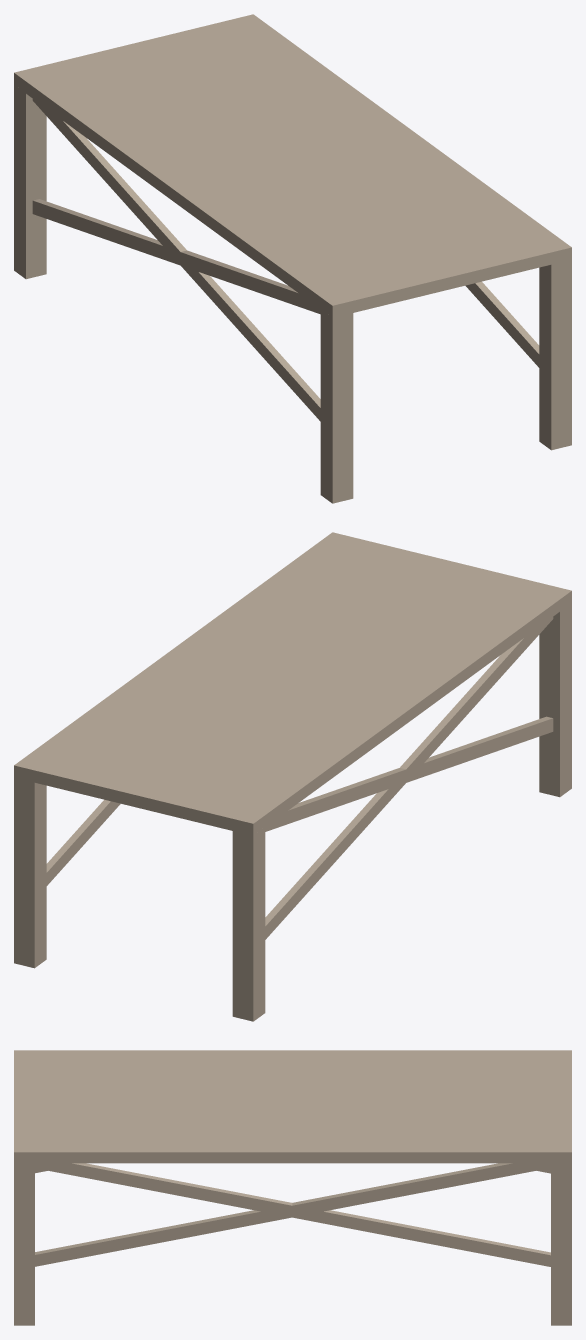
Rendered from GrandeTable_19.fbx.
3 renders of one model, top to bottom at view 1: azimuth 30°, elevation 25°; view 2: azimuth 150°, elevation 25°; view 3: azimuth 270°, elevation 25°, orthographic. The views are drawn at different scales.
Visible parts, largest first — view 1: pCube64, pCube66, pCube65, pCube73, pCube67, pCube74, pCube72; view 2: pCube64, pCube67, pCube68, pCube74, pCube66, pCube73, pCube69; view 3: pCube64, pCube69, pCube72, pCube68, pCube65.
Part boxes in pixels (x1=…): pCube64: x1=14, y1=14, x2=571, y2=317; pCube66: x1=320, y1=309, x2=353, y2=503; pCube65: x1=539, y1=259, x2=571, y2=450; pCube73: x1=32, y1=99, x2=320, y2=421; pCube67: x1=14, y1=84, x2=46, y2=279; pCube74: x1=32, y1=199, x2=320, y2=314; pCube72: x1=465, y1=281, x2=539, y2=367; pCube64: x1=14, y1=532, x2=571, y2=835; pCube67: x1=232, y1=827, x2=265, y2=1021; pCube68: x1=14, y1=777, x2=46, y2=968; pCube74: x1=265, y1=617, x2=553, y2=939; pCube66: x1=539, y1=602, x2=571, y2=797; pCube73: x1=265, y1=716, x2=553, y2=831; pCube69: x1=46, y1=799, x2=120, y2=885; pCube64: x1=14, y1=1050, x2=571, y2=1163; pCube69: x1=35, y1=1163, x2=550, y2=1266; pCube72: x1=35, y1=1163, x2=550, y2=1266; pCube68: x1=551, y1=1162, x2=571, y2=1325; pCube65: x1=14, y1=1162, x2=34, y2=1325.
Size of the model in its own units: 52.71 by 41.63 by 121.
